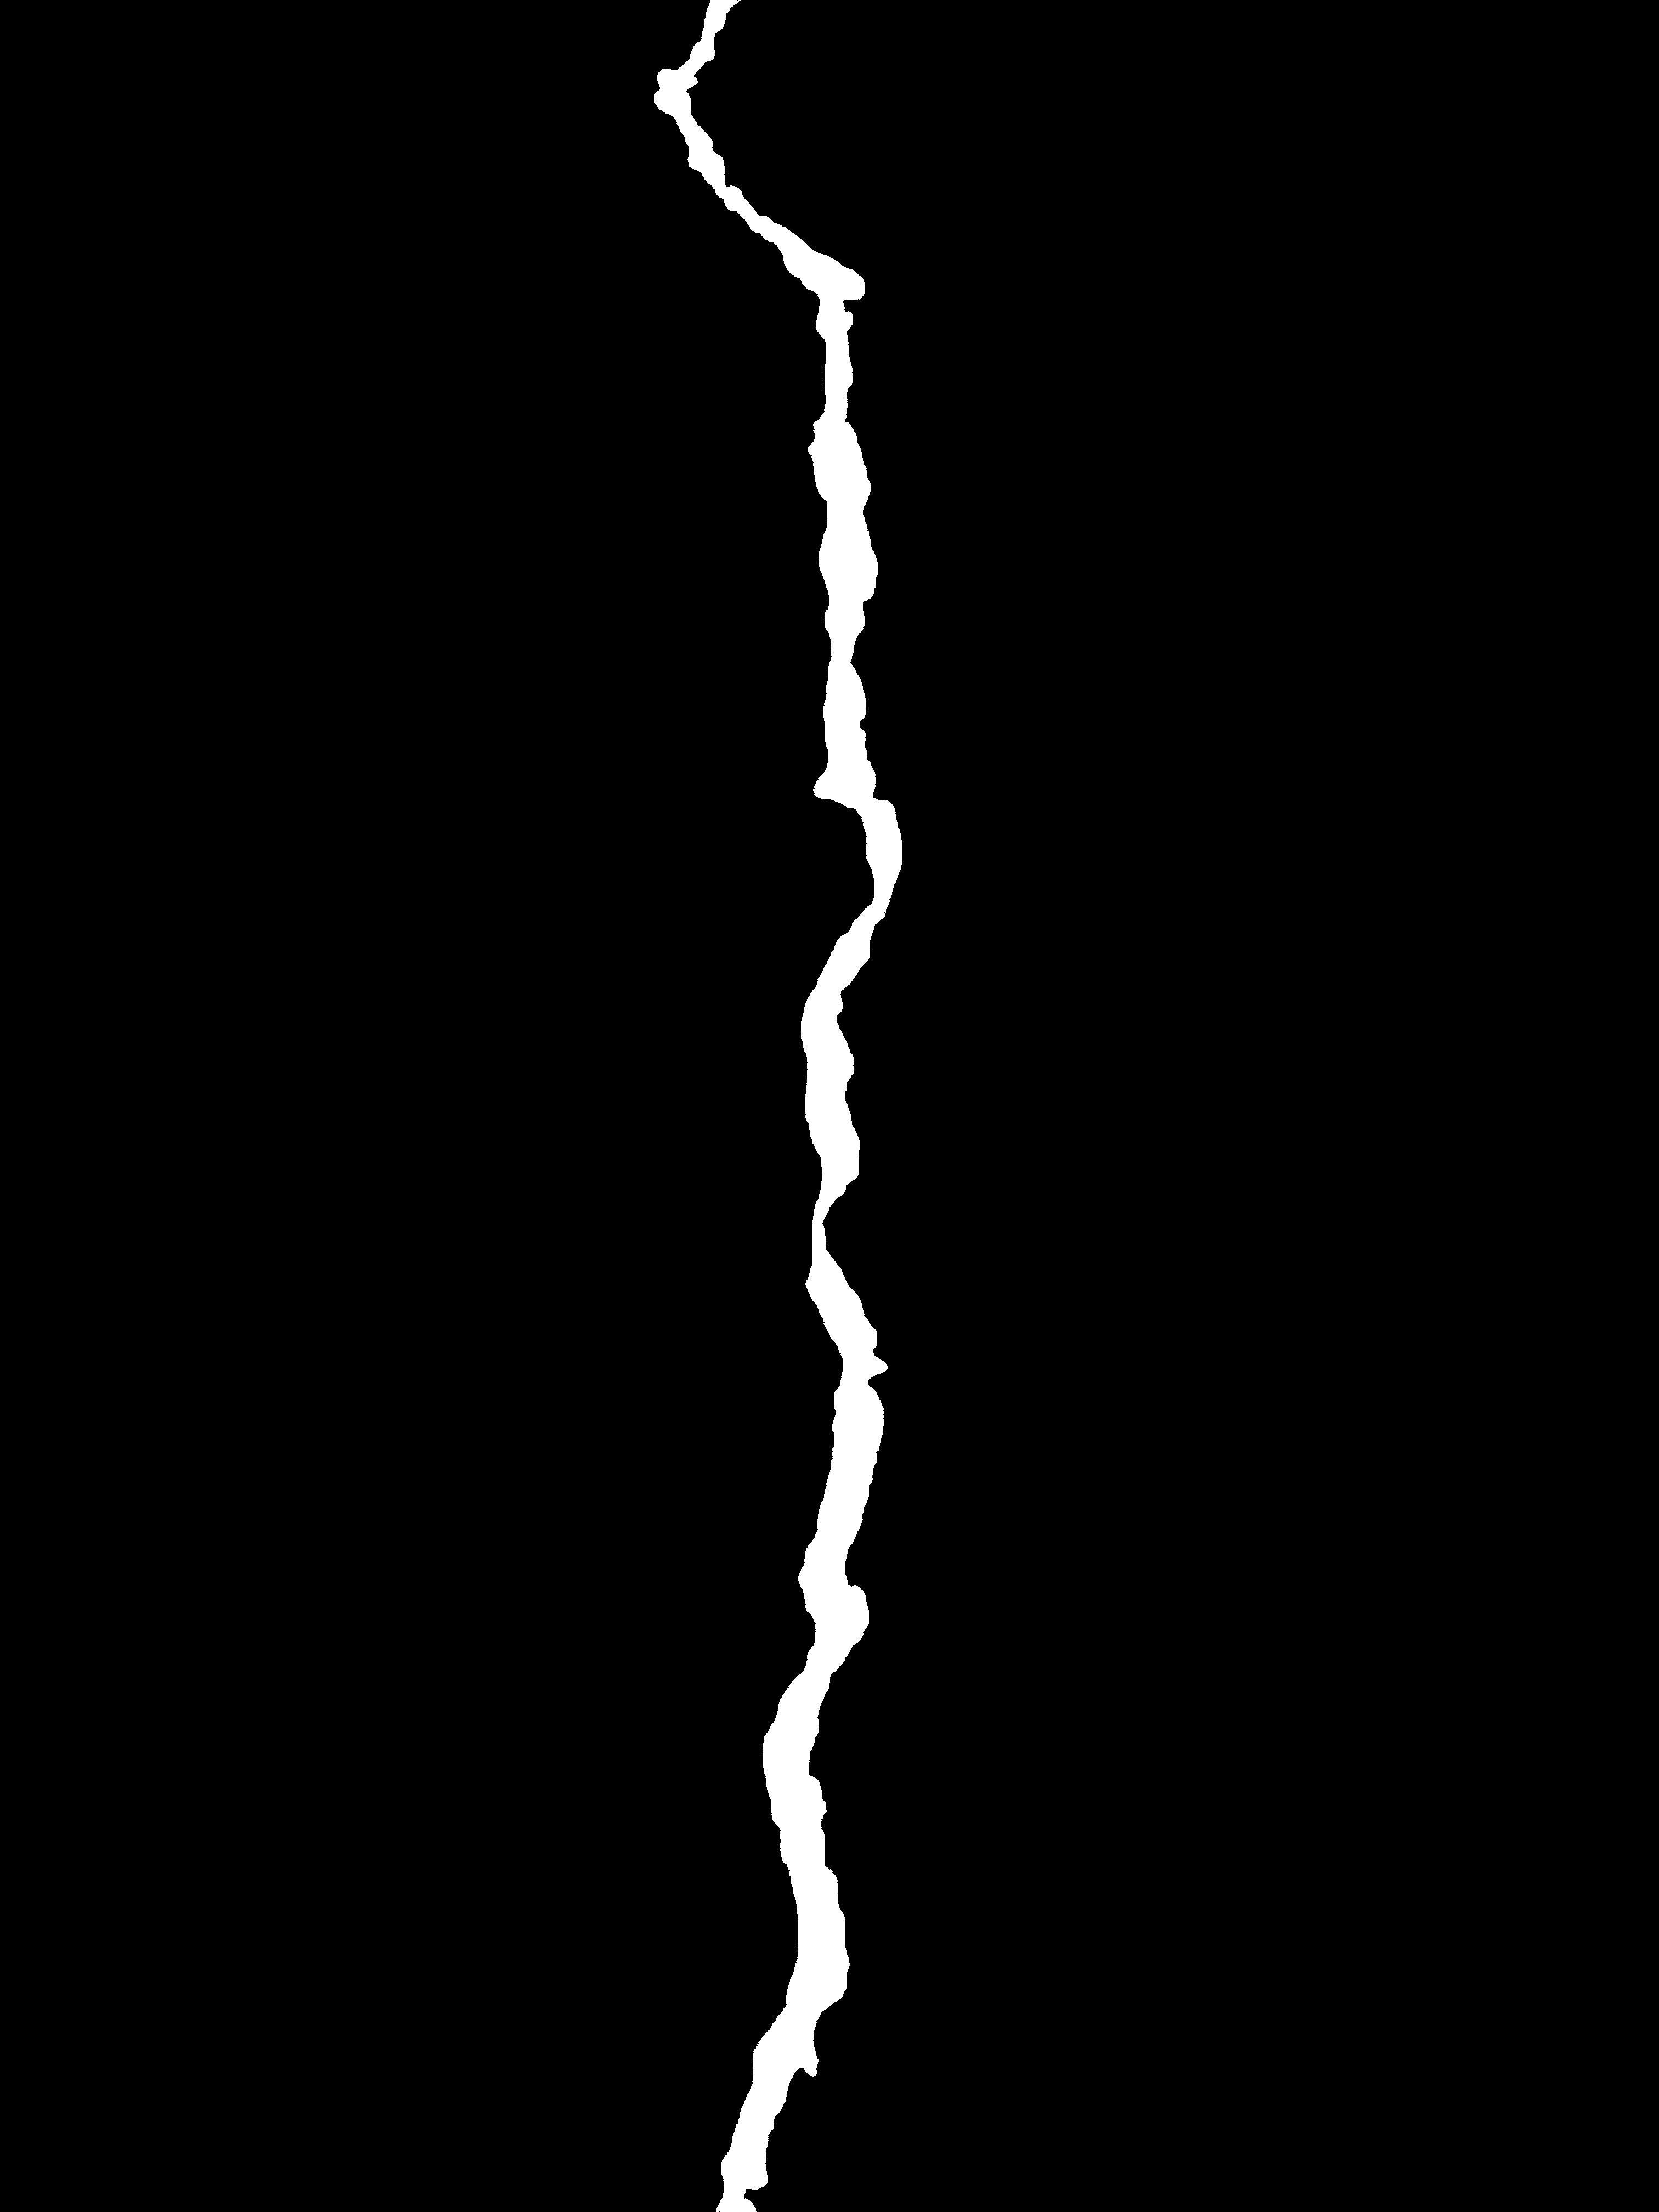Crack: (629, 0, 920, 2212)
